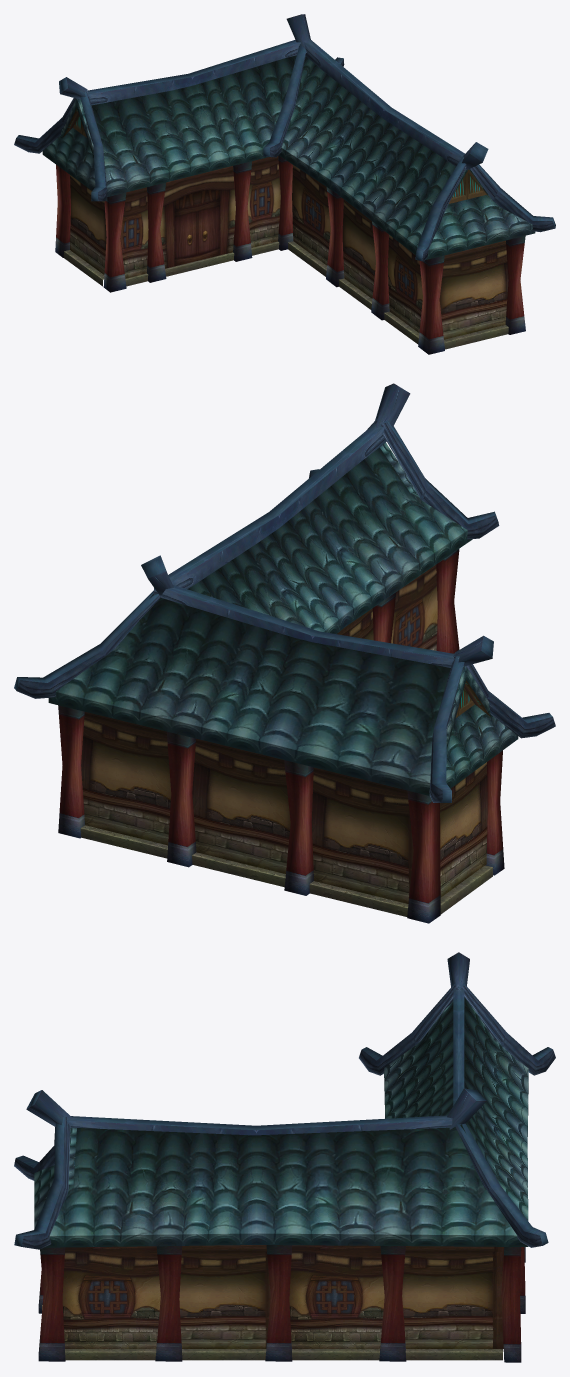
The model's file is environment_Building_qingsangcheng_001_g.FBX.
3 views of the same model, one above another, from view 1: azimuth 30°, elevation 25°; view 2: azimuth 150°, elevation 25°; view 3: azimuth 270°, elevation 25° (orthographic). The views are drawn at different scales.
Visible parts, largest first — view 1: environment_Building_qingsangcheng_001_g02, environment_Building_qingsangcheng_001_g08, environment_Building_qingsangcheng_001_g07, environment_Building_qingsangcheng_001_g03, environment_Building_qingsangcheng_001_g06, environment_Building_qingsangcheng_001_g05, environment_Building_qingsangcheng_001_g01, environment_Building_qingsangcheng_001_g04; view 2: environment_Building_qingsangcheng_001_g02, environment_Building_qingsangcheng_001_g06, environment_Building_qingsangcheng_001_g07, environment_Building_qingsangcheng_001_g08, environment_Building_qingsangcheng_001_g01, environment_Building_qingsangcheng_001_g05; view 3: environment_Building_qingsangcheng_001_g02, environment_Building_qingsangcheng_001_g06, environment_Building_qingsangcheng_001_g05, environment_Building_qingsangcheng_001_g07, environment_Building_qingsangcheng_001_g08, environment_Building_qingsangcheng_001_g01.
Part boxes in pixels (x1,y1,x2,y2): environment_Building_qingsangcheng_001_g02: (42,55,535,259); environment_Building_qingsangcheng_001_g08: (55,155,525,354); environment_Building_qingsangcheng_001_g07: (14,14,555,261); environment_Building_qingsangcheng_001_g03: (120,156,280,278); environment_Building_qingsangcheng_001_g06: (70,175,508,339); environment_Building_qingsangcheng_001_g05: (292,165,422,332); environment_Building_qingsangcheng_001_g01: (63,241,508,349); environment_Building_qingsangcheng_001_g04: (63,108,489,203); environment_Building_qingsangcheng_001_g02: (48,442,518,795); environment_Building_qingsangcheng_001_g06: (81,608,487,903); environment_Building_qingsangcheng_001_g07: (14,383,555,802); environment_Building_qingsangcheng_001_g08: (58,549,504,923); environment_Building_qingsangcheng_001_g01: (80,825,492,916); environment_Building_qingsangcheng_001_g05: (391,565,437,650); environment_Building_qingsangcheng_001_g02: (34,997,528,1247); environment_Building_qingsangcheng_001_g06: (179,1245,504,1348); environment_Building_qingsangcheng_001_g05: (62,1245,384,1348); environment_Building_qingsangcheng_001_g07: (14,952,555,1249); environment_Building_qingsangcheng_001_g08: (38,1245,525,1362); environment_Building_qingsangcheng_001_g01: (42,1305,502,1360).
Bounding box in the file's own units: 952 × 1127 × 559.
Materials: 8 (8 with a texture image).
